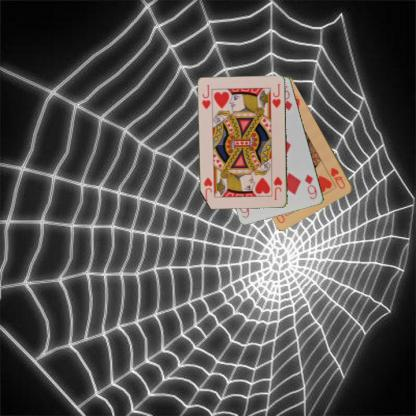6d: (302, 172, 318, 200)
Jh: (272, 174, 284, 201), (200, 83, 212, 110)
Qh: (328, 165, 347, 190)
